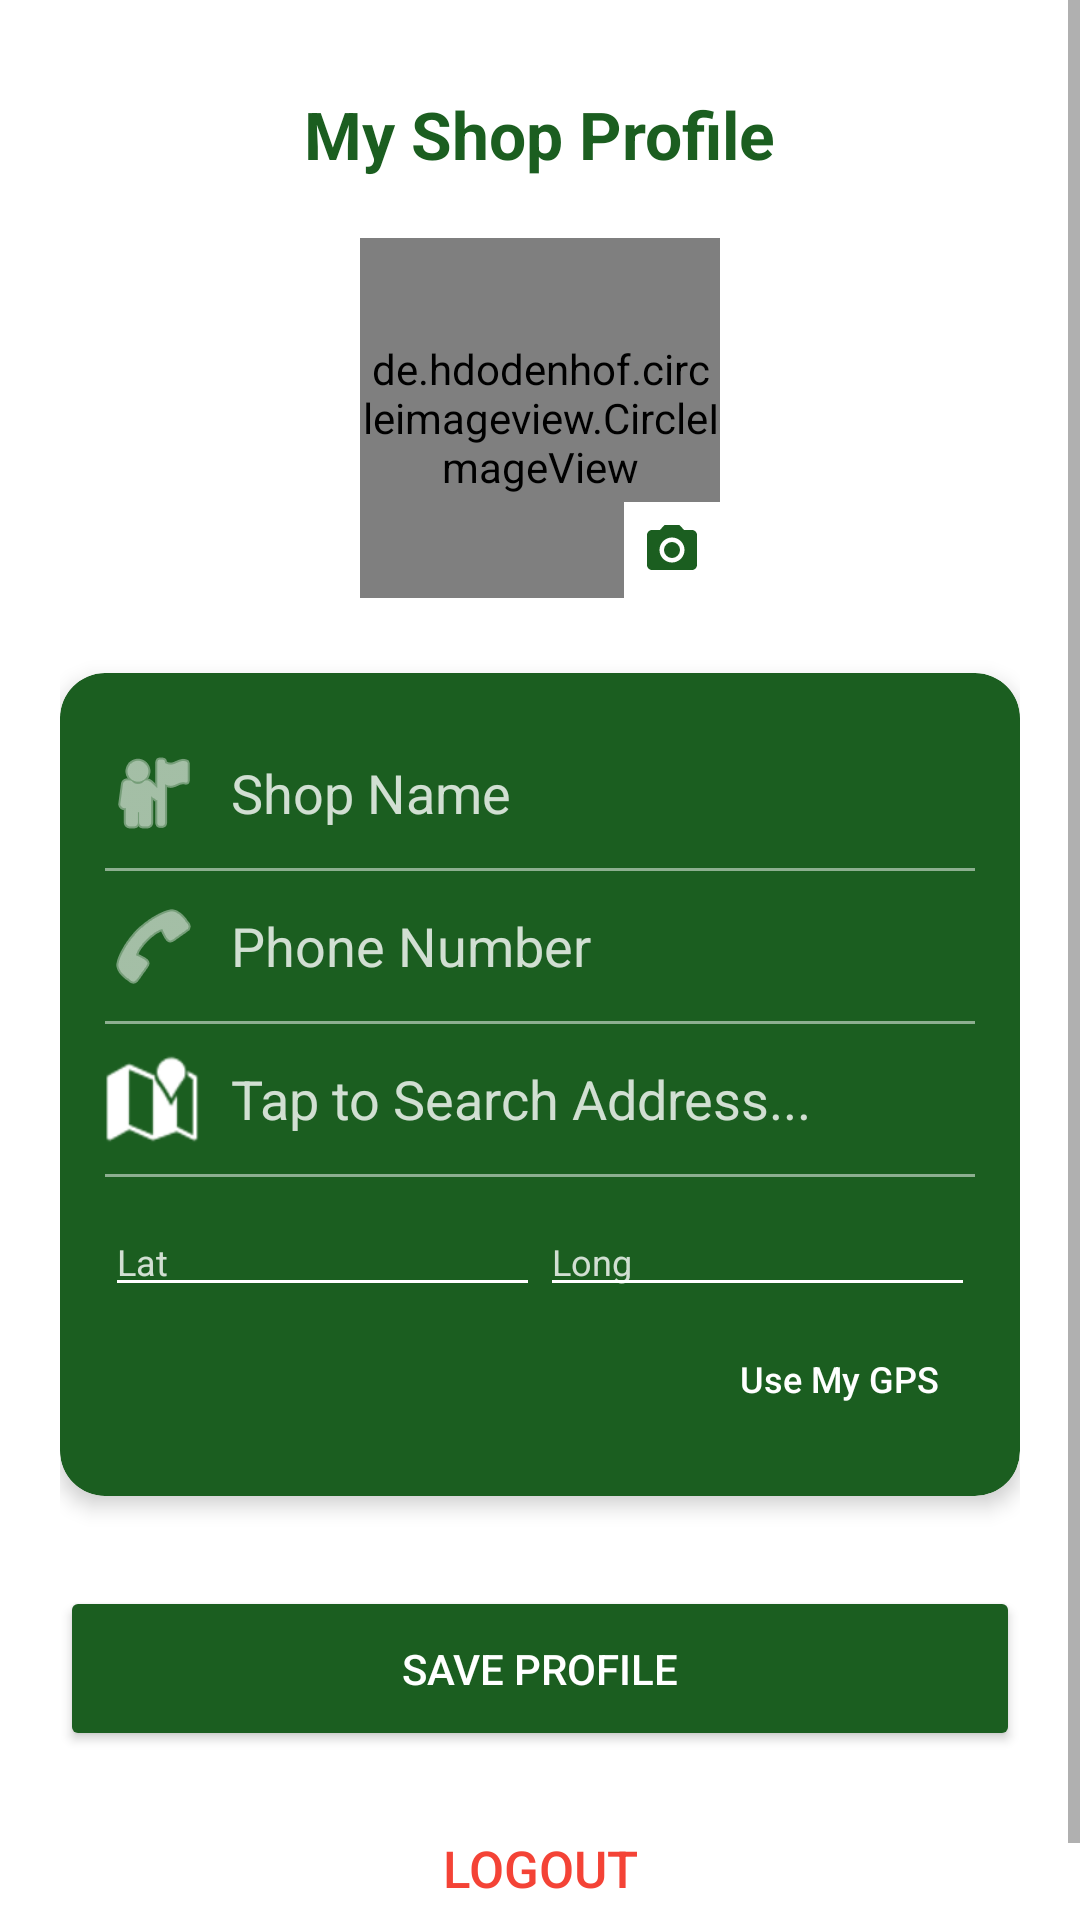

Point at icon controls on the screen. Image size 1080 × 1920, points as [x,y].
camera: [672,547]
